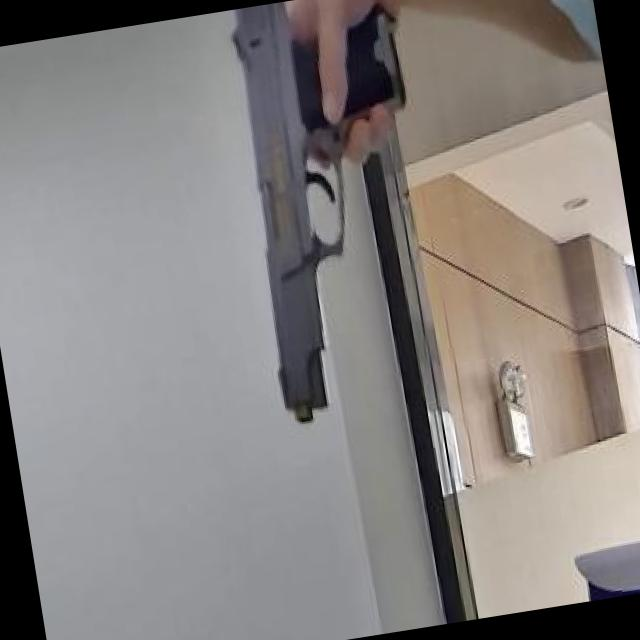Guns: (187, 0, 493, 453)
